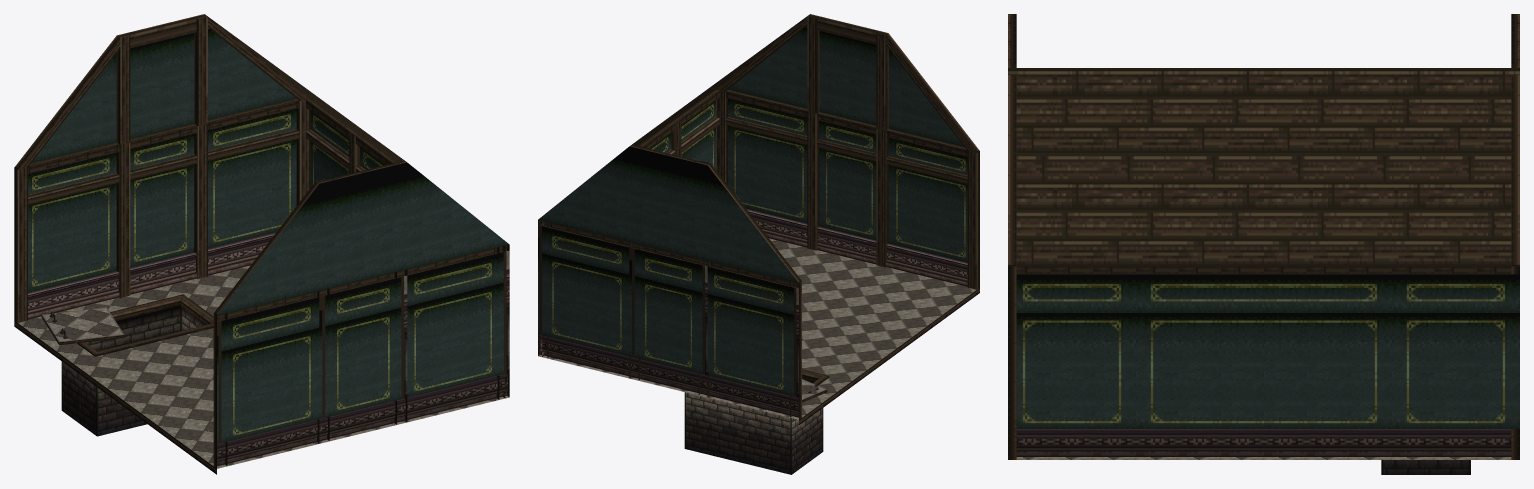
The model's file is EnvBdgMD_City_A_Indoor_Robber_A.FBX.
The picture shows the model from 3 angles, left to right: view 1: azimuth 30°, elevation 25°; view 2: azimuth 150°, elevation 25°; view 3: azimuth 270°, elevation 25°; orthographic projection. The views are drawn at different scales.
Visible parts, largest first — view 1: EnvBdgMD_City_A_Indoor_Robber_A; view 2: EnvBdgMD_City_A_Indoor_Robber_A; view 3: EnvBdgMD_City_A_Indoor_Robber_A.
Part boxes in pixels (x1,y1,x2,y2): EnvBdgMD_City_A_Indoor_Robber_A: (14, 14, 509, 474); EnvBdgMD_City_A_Indoor_Robber_A: (538, 14, 979, 474); EnvBdgMD_City_A_Indoor_Robber_A: (1008, 14, 1519, 474).
Size of the model in its own units: 1000 by 1120 by 1200.
